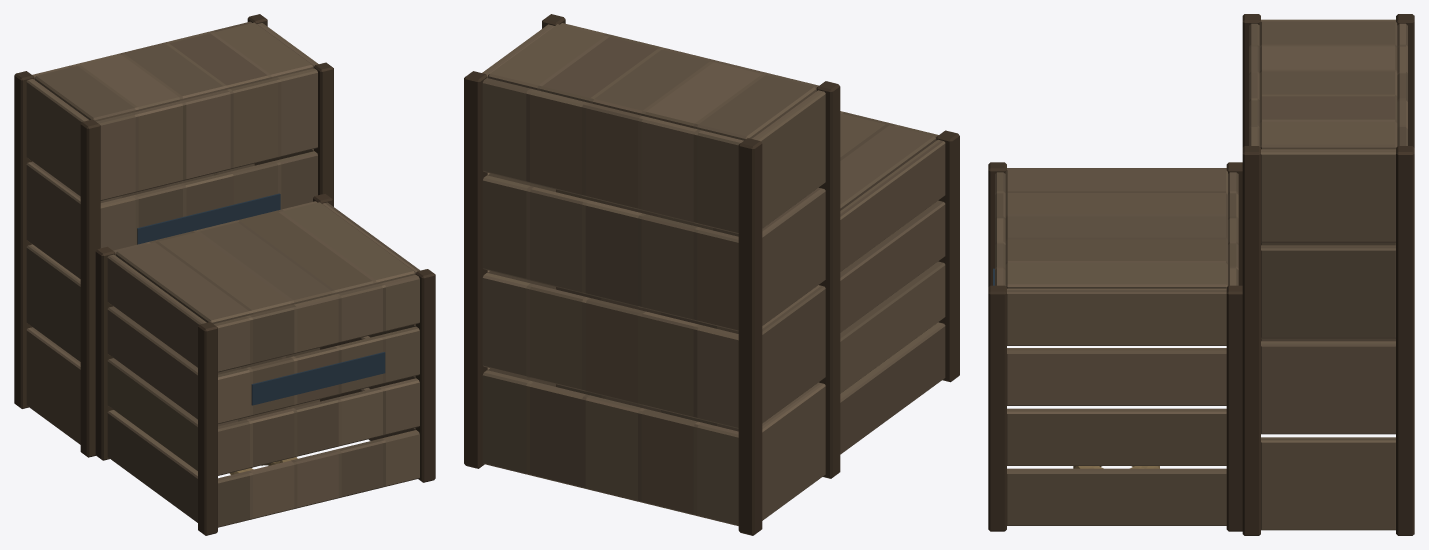
The model's file is koala-seat.glb.
The picture shows the model from 3 angles, left to right: view 1: azimuth 30°, elevation 25°; view 2: azimuth 150°, elevation 25°; view 3: azimuth 270°, elevation 25°; orthographic projection. The views are drawn at different scales.
Parts seen in each view (by area): view 1: koala-seat-harbour; view 2: koala-seat-harbour; view 3: koala-seat-harbour.
Part boxes in pixels (left/top/right/bottom): koala-seat-harbour: left=14, top=14, right=435, bottom=535; koala-seat-harbour: left=464, top=14, right=959, bottom=535; koala-seat-harbour: left=988, top=14, right=1414, bottom=535.
Size of the model in its own units: 0.625 by 0.8113 by 0.805.
